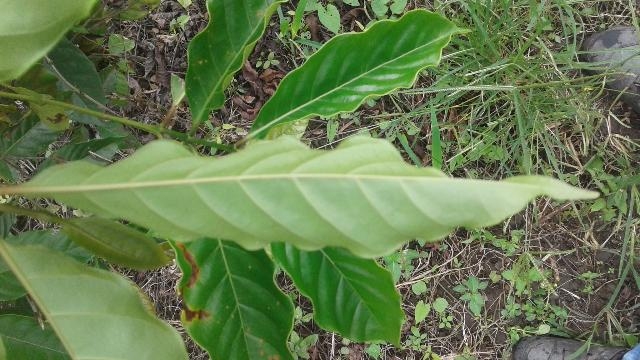healthy: (1, 136, 601, 260)
